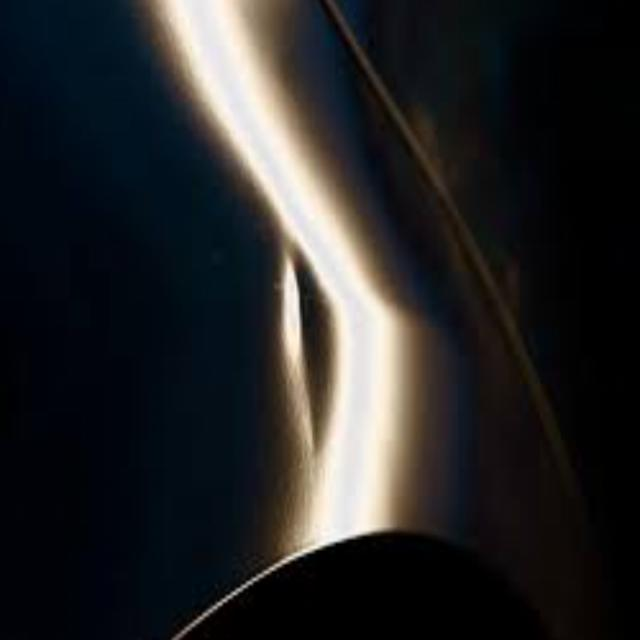dents: (236, 239, 355, 443)
